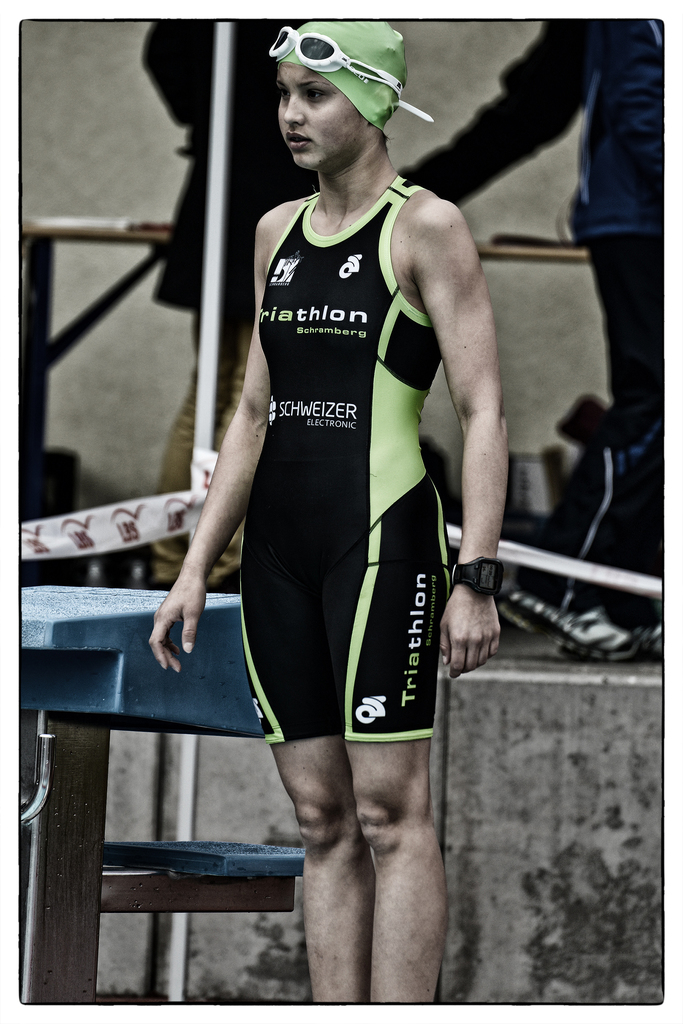Person: (149, 20, 509, 1001), (400, 21, 661, 663)
